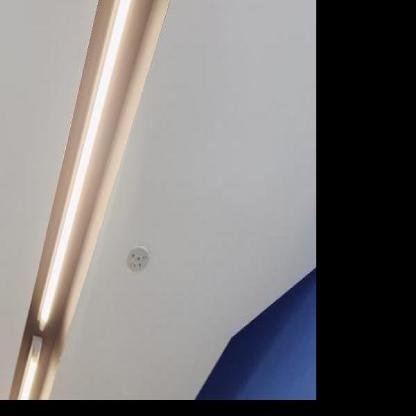light_on: (34, 0, 141, 329), (12, 333, 45, 400)
